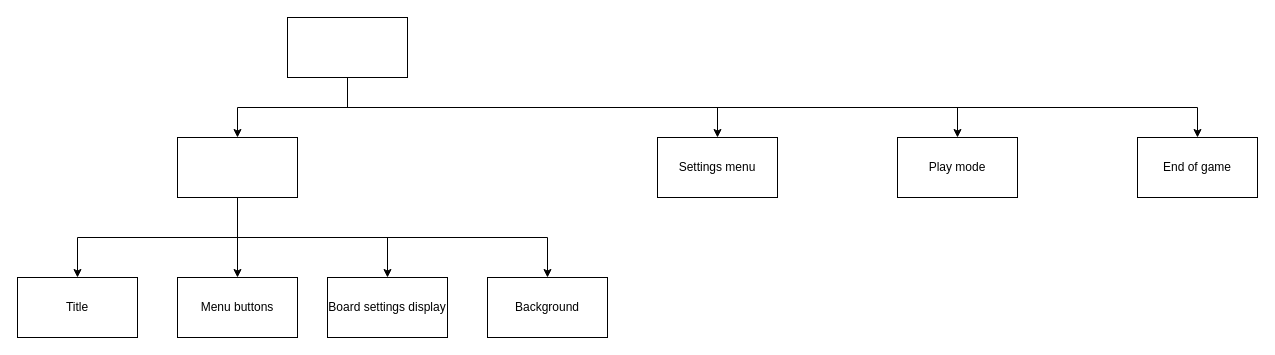
The diagram is 1275 pixels wide and 355 high, and some of its shapes have lost their labels. Here are the shapes that lost their labels. From the top down, the centre of each, then its label:
At pixel 347 47: "Scene manager".
At pixel 237 167: "Main menu".
